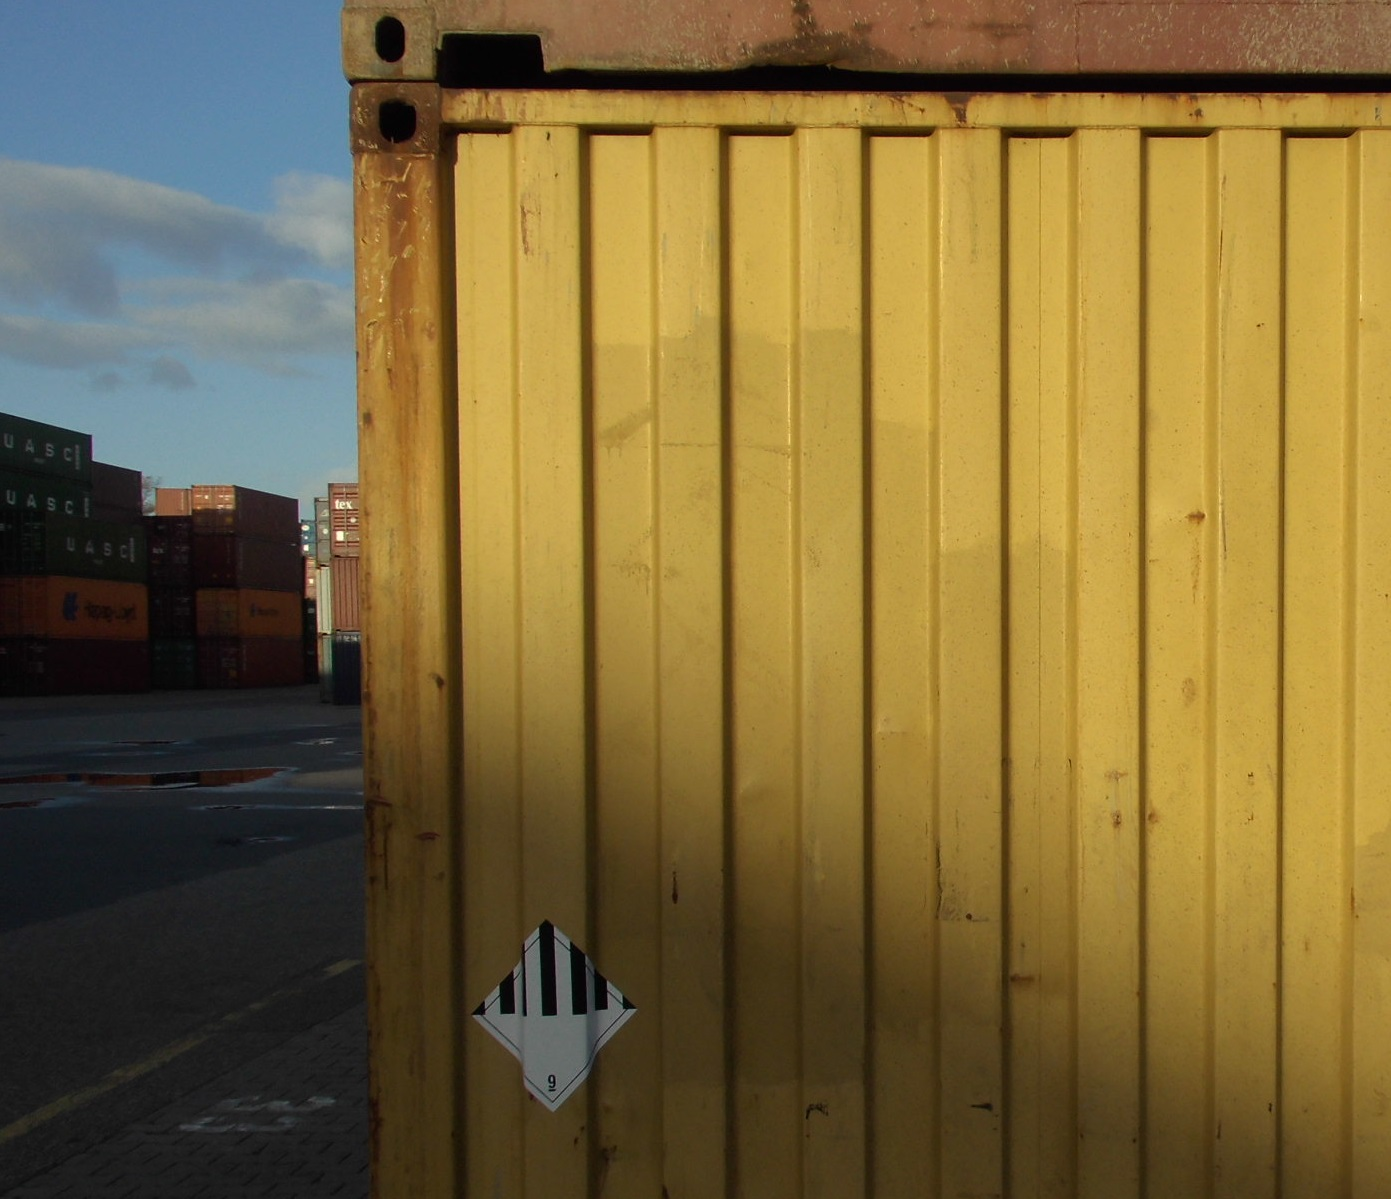container_no_door: (355, 74, 1387, 1197)
